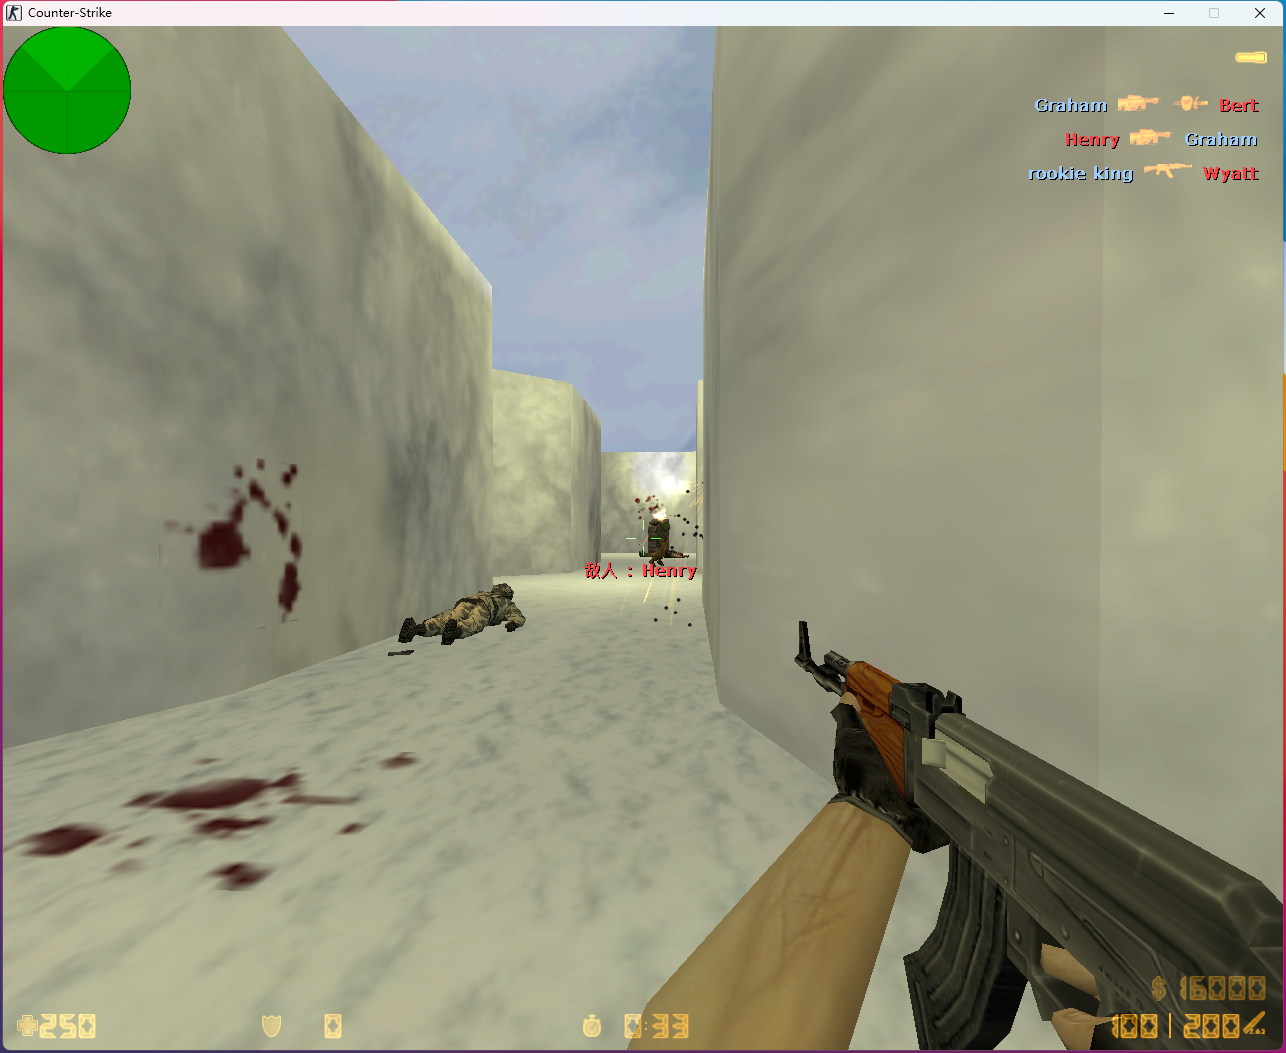T: (644, 508, 671, 567)
dead: (397, 582, 526, 648)
